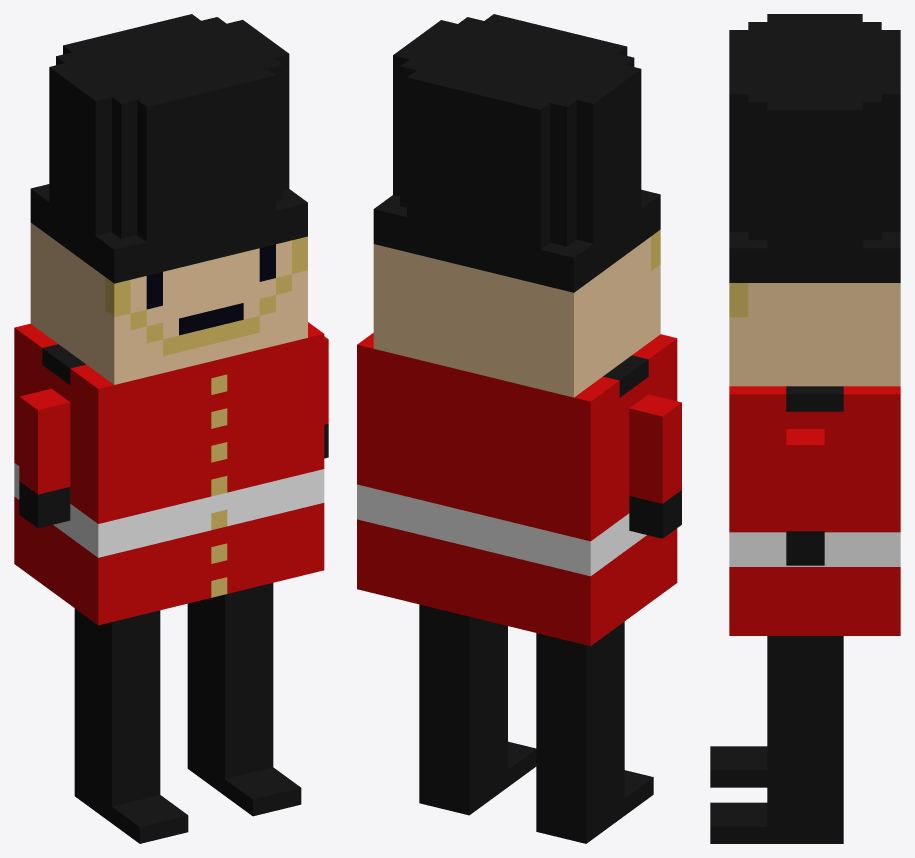
The model's file is Player14.obj.
3 views of the same model, side by side, from view 1: azimuth 30°, elevation 25°; view 2: azimuth 150°, elevation 25°; view 3: azimuth 270°, elevation 25° (orthographic). The views are drawn at different scales.
Parts seen in each view (by area): view 1: Player14; view 2: Player14; view 3: Player14.
Boxes of the visible parts, x1=… form: Player14: x1=14, y1=14, x2=328, y2=843; Player14: x1=357, y1=14, x2=681, y2=843; Player14: x1=710, y1=14, x2=900, y2=843.
Size of the model in its own units: 18 by 43 by 10.
